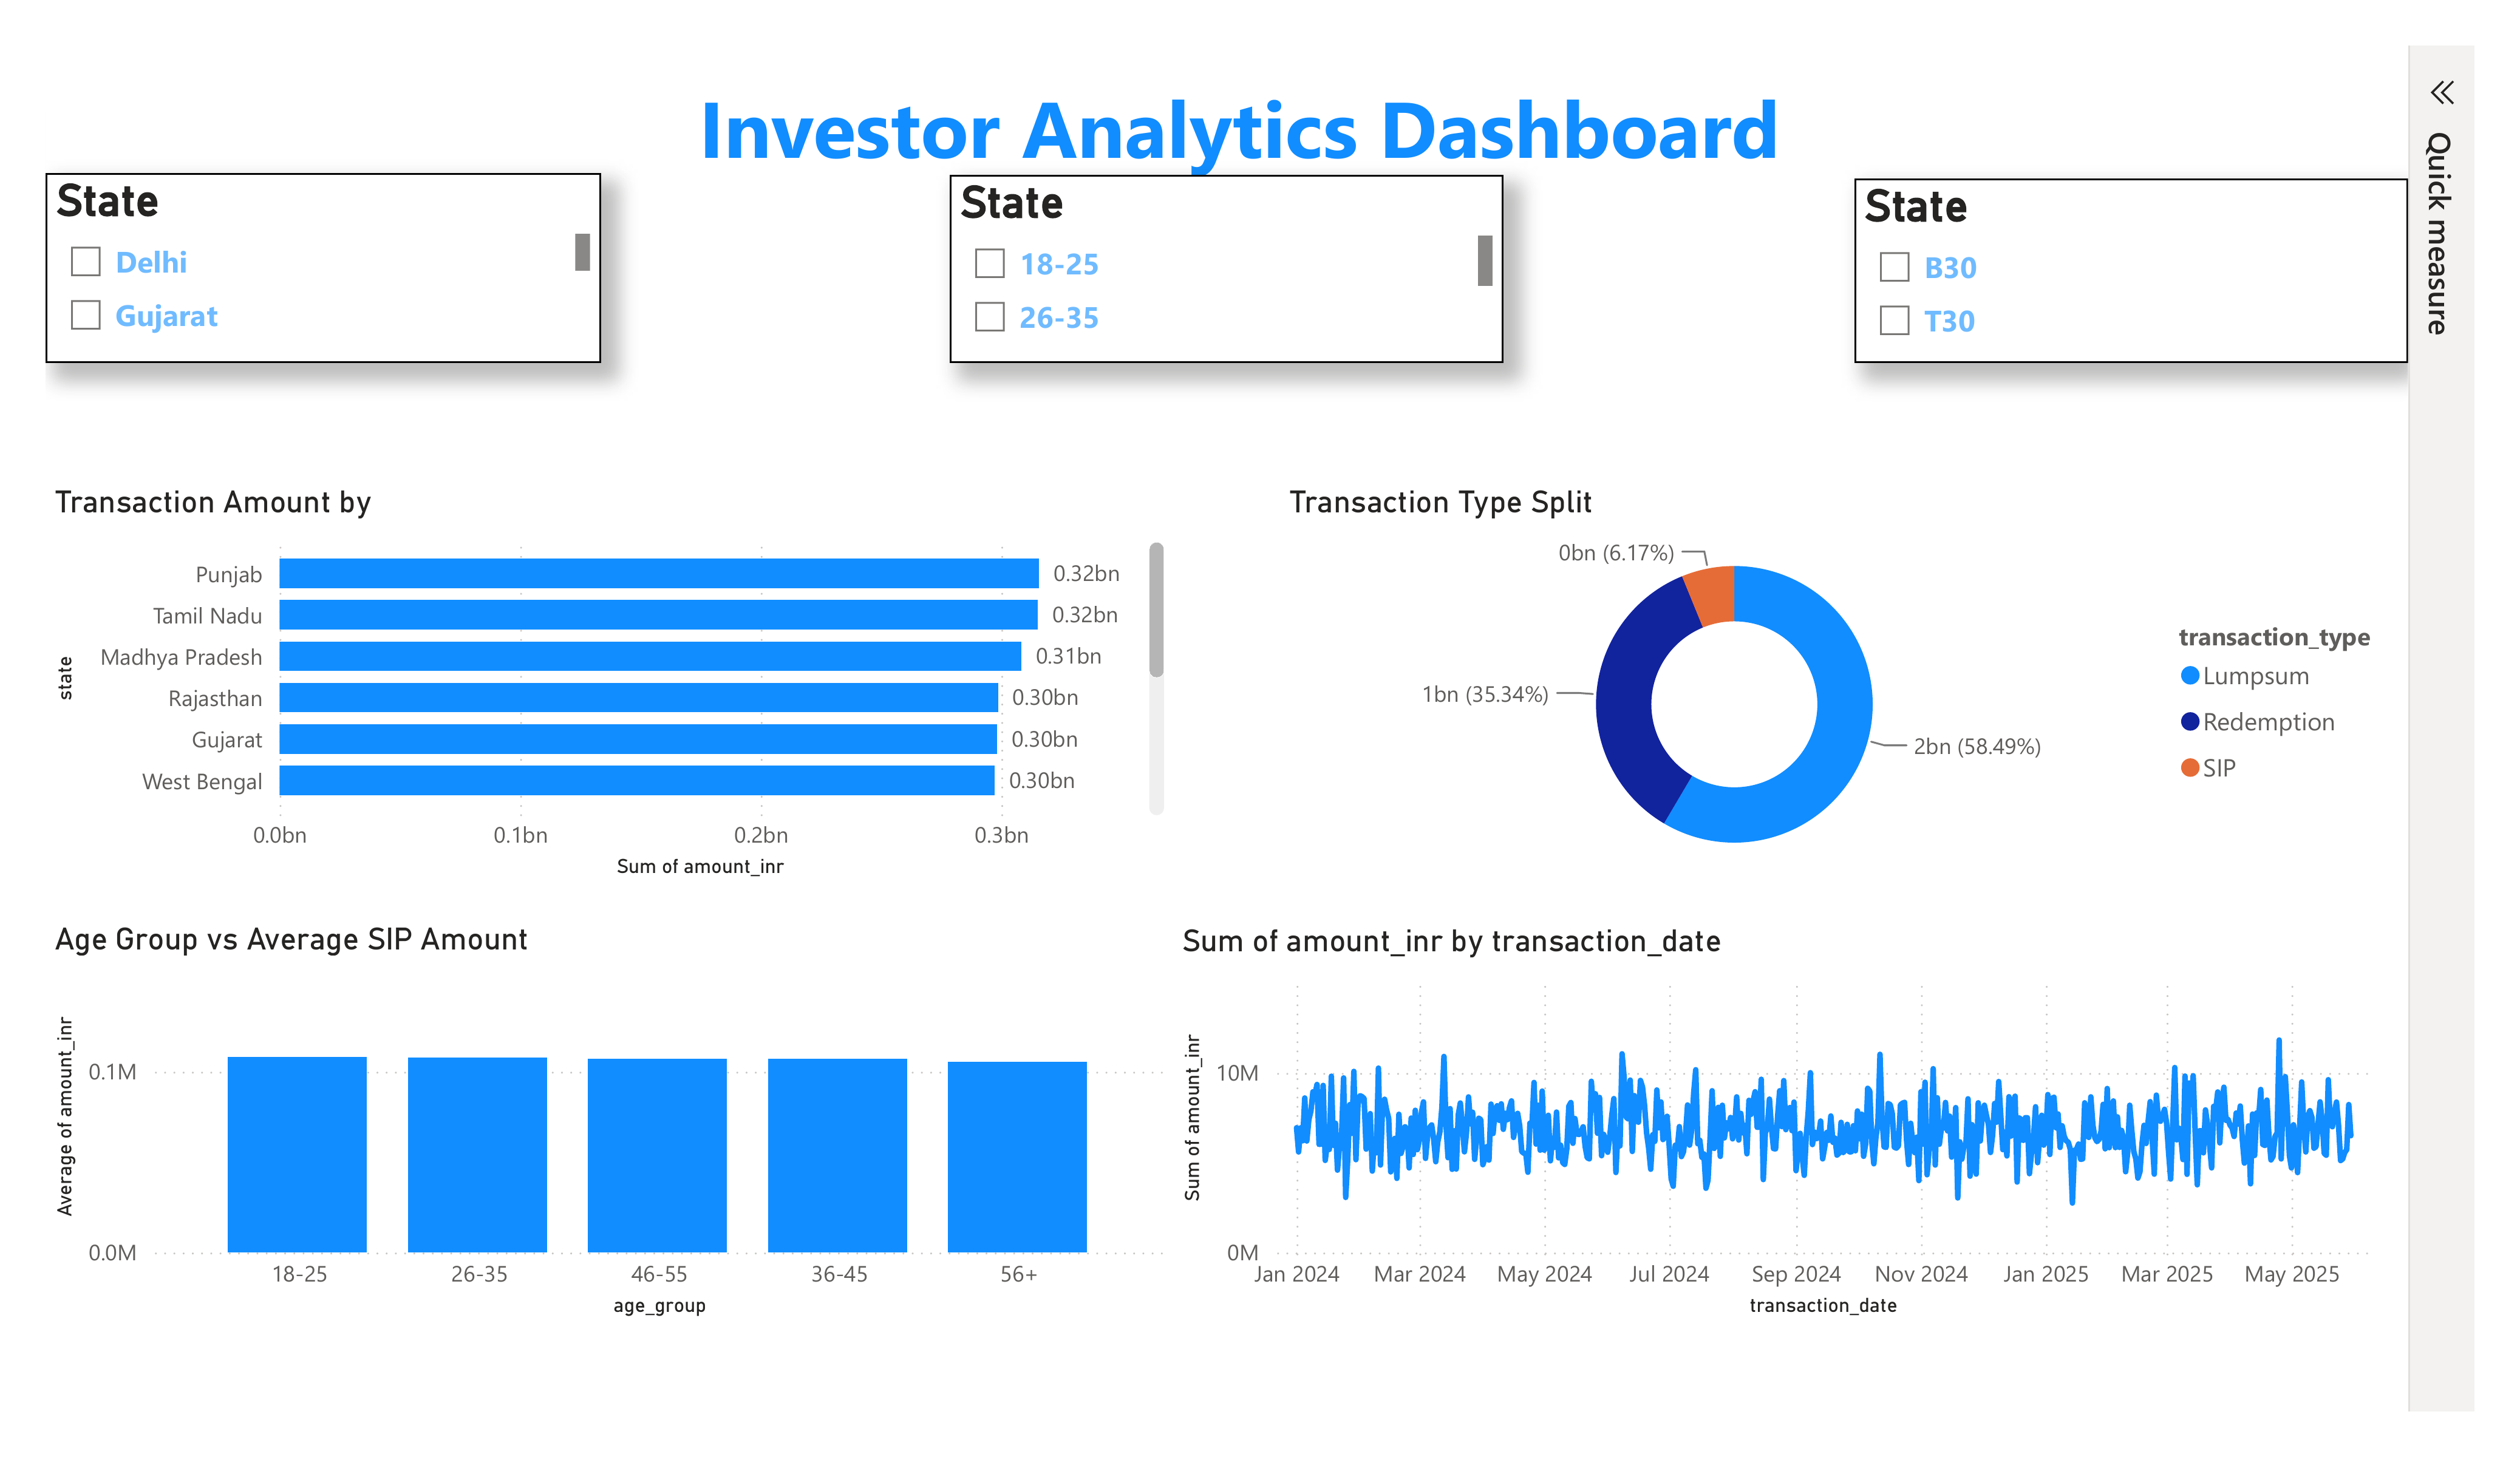

What the dashboard file says about the page in this screenshot:
{"tool":"powerbi","page":{"name":"Investor Analytics","canvas":[1280,720],"ordinal":2},"visuals":[{"type":"textbox","box":[348.5,0,680.6,279.9],"z":0},{"type":"slicer","title":"State","fields":{"Values":["clean_transactions.state"]},"box":[0,59,300.5,102.9],"z":1000},{"type":"slicer","title":"State","fields":{"Values":["clean_transactions.age_group"]},"box":[489.9,60.4,300.5,101.5],"z":2000},{"type":"slicer","title":"State","fields":{"Values":["clean_transactions.city_tier"]},"box":[979.8,61.7,300.5,100.2],"z":3000},{"type":"clusteredBarChart","title":"Transaction Amount by ","fields":{"Category":["clean_transactions.state"],"Y":["Sum(clean_transactions.amount_inr)"]},"box":[0,226.6,611.5,219.5],"z":4000},{"type":"donutChart","title":"Transaction Type Split","fields":{"Category":["clean_transactions.transaction_type"],"Y":["Sum(clean_transactions.amount_inr)"]},"box":[668.5,226.6,611.5,220.9],"z":5000},{"type":"clusteredColumnChart","title":"Age  Group vs Average SIP Amount","fields":{"Category":["clean_transactions.age_group"],"Y":["Avg(clean_transactions.amount_inr)"]},"box":[0,464,611,220],"z":6000},{"type":"lineChart","fields":{"Y":["Sum(clean_transactions.amount_inr)"],"Category":["clean_transactions.transaction_date"]},"box":[611.5,464.7,668.5,219.5],"z":7000}]}

Visuals, with their boxes on the page's 1280x720 design canvas (x1, y1, x2, y2). These are canvas units, not pixel positions in the 2520x1457 screenshot, which may show the page scaled, cropped or inside an application window:
textbox: detection(348, 0, 1029, 280)
"State" slicer: detection(0, 59, 300, 162)
"State" slicer: detection(490, 60, 790, 162)
"State" slicer: detection(980, 62, 1280, 162)
"Transaction Amount by " clusteredBarChart: detection(0, 227, 612, 446)
"Transaction Type Split" donutChart: detection(668, 227, 1280, 448)
"Age  Group vs Average SIP Amount" clusteredColumnChart: detection(0, 464, 611, 684)
lineChart - Sum(clean_transactions.amount_inr) x clean_transactions.transaction_date: detection(612, 465, 1280, 684)
